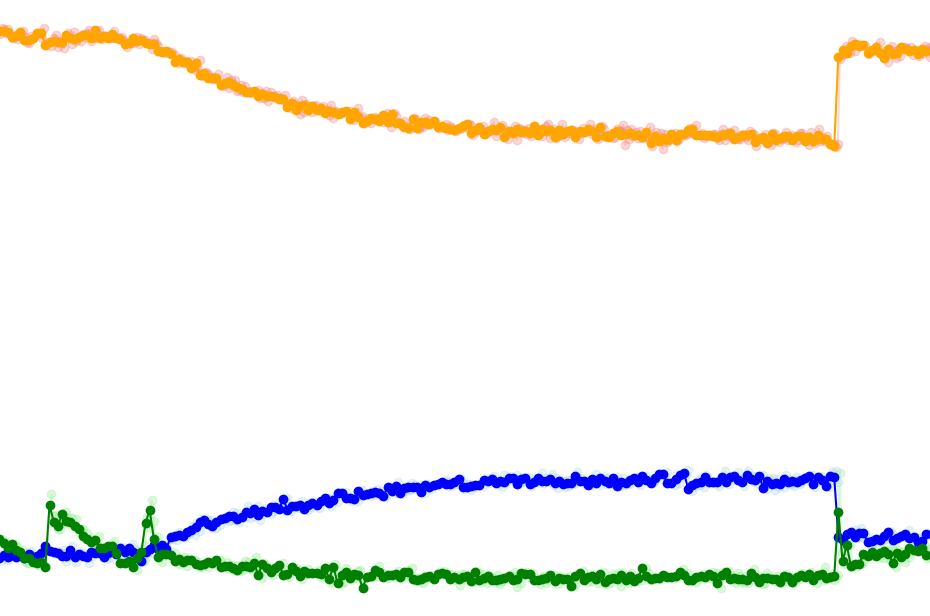CO2 Problem: (400, 0, 800, 616), (99, 0, 400, 616), (800, 0, 926, 616)
Condensation (CO2): (99, 0, 800, 616), (800, 0, 926, 616)
Condensation (O2): (800, 0, 926, 616)
High O2: (0, 0, 800, 616), (400, 0, 800, 616), (99, 0, 400, 616), (800, 0, 926, 616)
Low CO2: (400, 0, 800, 616), (99, 0, 400, 616), (800, 0, 926, 616), (0, 0, 99, 616)
Low O2: (800, 0, 926, 616)
Normal: (0, 0, 926, 616), (400, 0, 800, 616), (99, 0, 400, 616), (400, 0, 700, 616), (99, 0, 299, 616), (800, 0, 926, 616)
O2 Problem: (400, 0, 800, 616), (800, 0, 926, 616)
